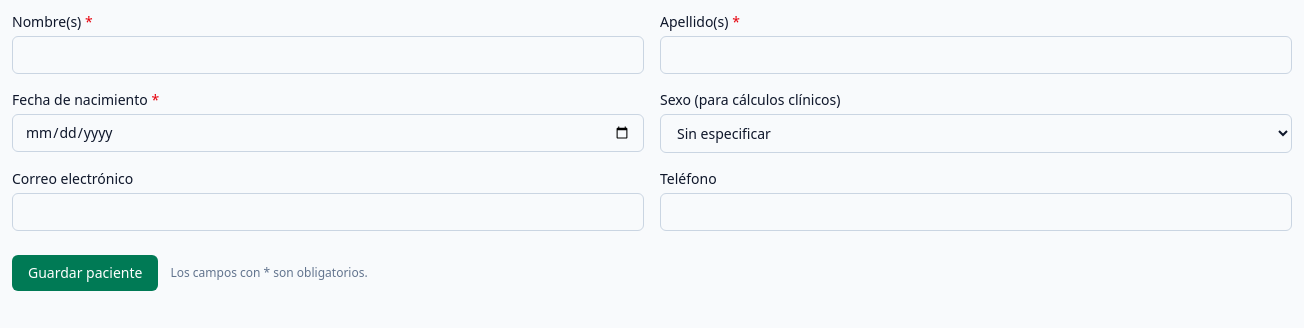
Scenario: PatientForm › refuses to submit without a name and says why in Spanish
The image size is (1304, 328).
Type "1990-05-14" into the date field labelled "Fecha de nacimiento *".
click(328, 133); type("1990-05-14")  # box [12,114,644,152]
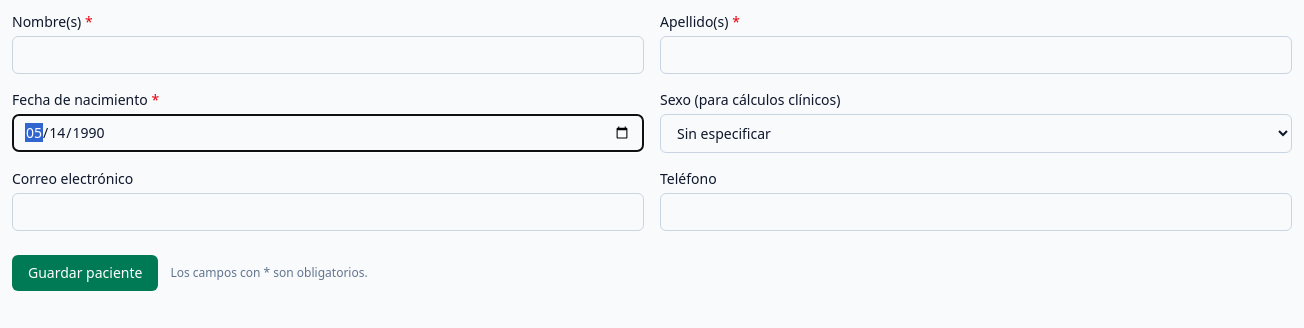
Click the button "Guardar paciente".
click(85, 273)  # box [12,255,158,291]
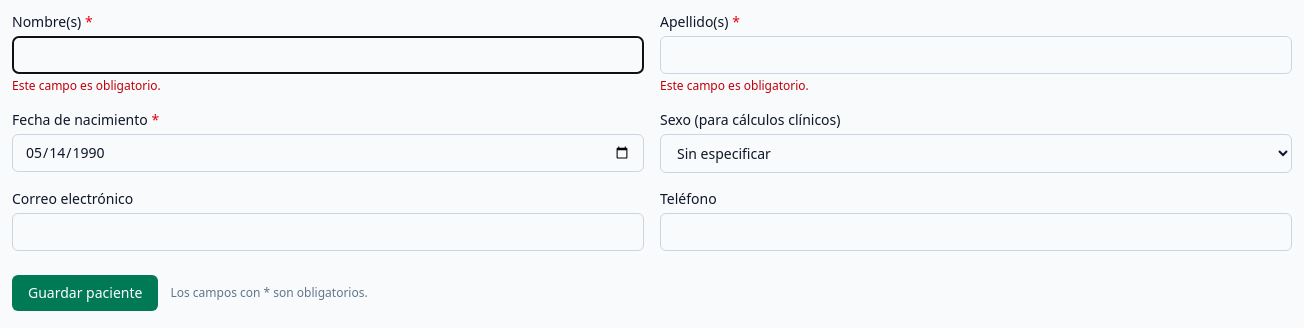
Result: the text "Este campo es obligatorio." is shown 2 times at [12,77,161,94]; [660,77,809,94]
